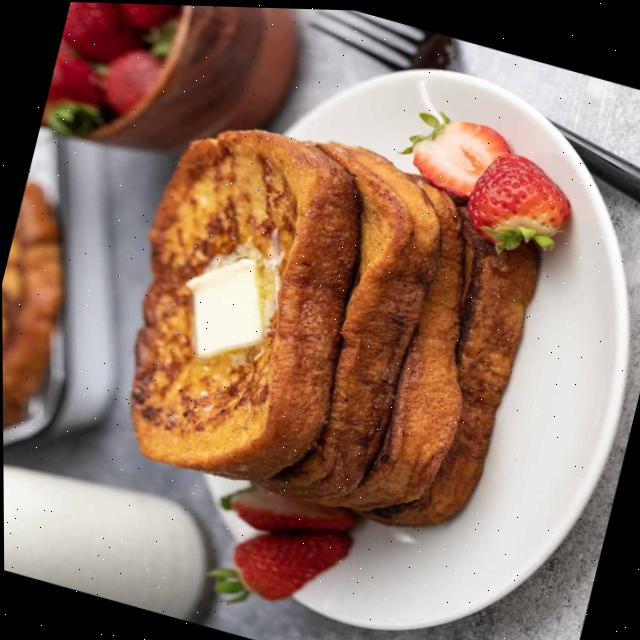Bread: (130, 127, 360, 477), (261, 140, 440, 500)
